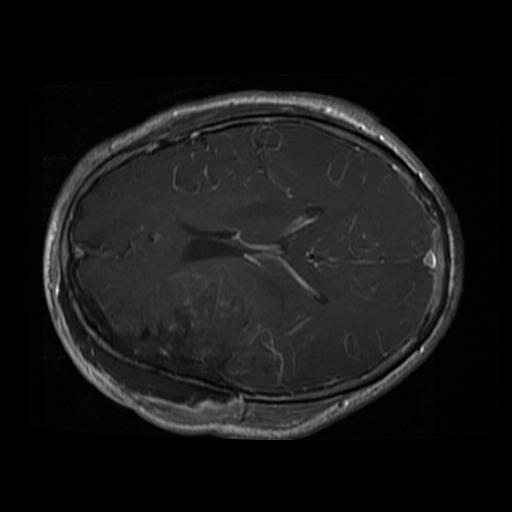glioma: (91, 271, 275, 406)
